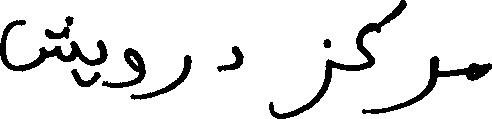X: (0, 11, 79, 90), (356, 0, 404, 118), (277, 34, 332, 118), (406, 0, 437, 111), (163, 50, 191, 98), (124, 43, 146, 104), (218, 41, 243, 76), (467, 58, 491, 85), (99, 35, 105, 90)
